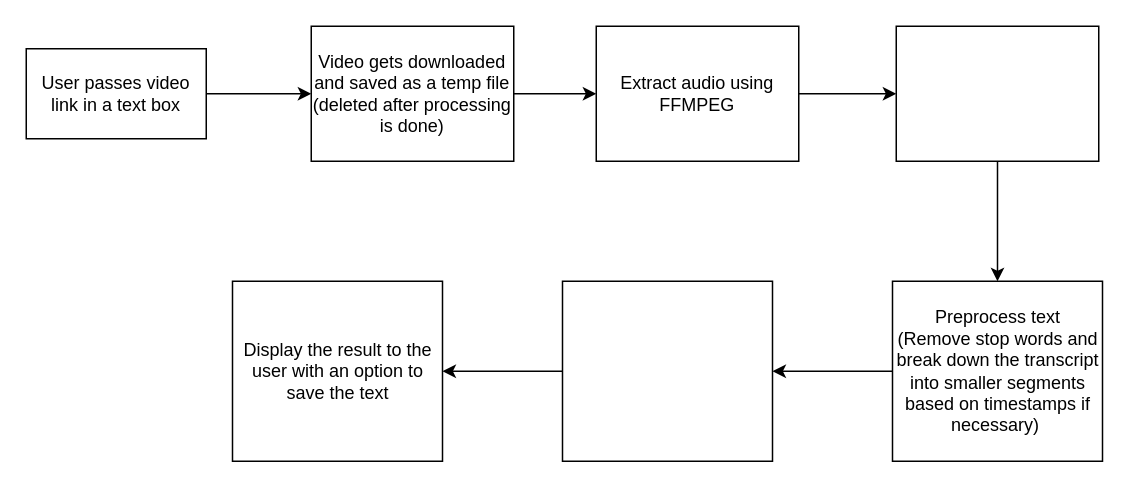
The diagram is 1130 pixels wide and 488 high, and some of its shapes have lost their labels. The centre of each missing label's shape, as x and y in pixels:
"Pass the System Prompt + User Prompt to an LLM to Summarize" goes at point 666,370.
"Use Whisper to convert speech to text" goes at point 997,93.
